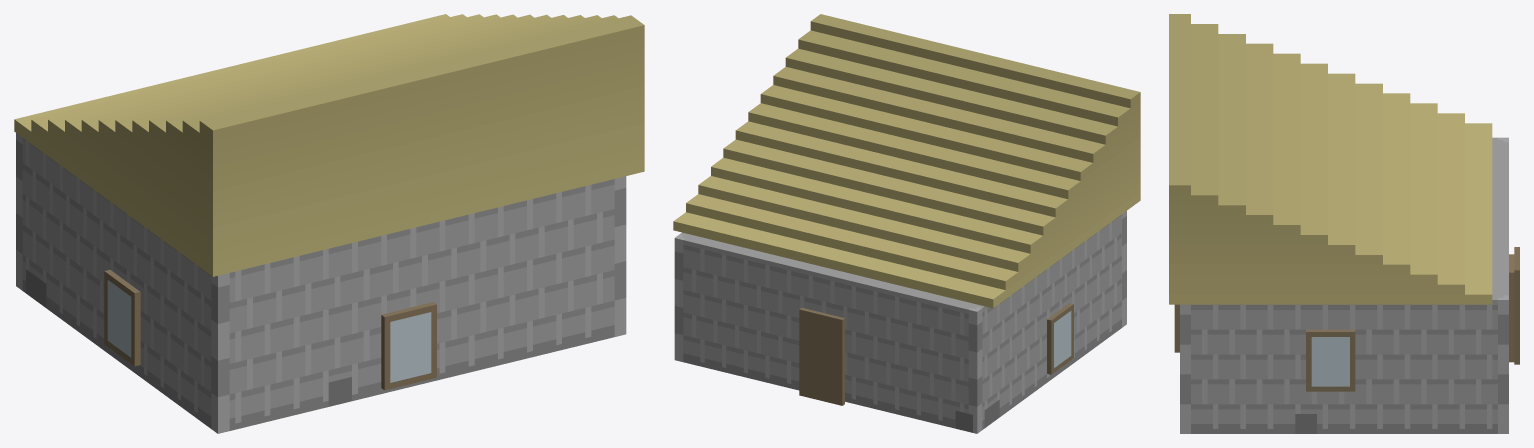
File: casa_humilde_03.glb
3 views of the same model, side by side, from view 1: azimuth 30°, elevation 25°; view 2: azimuth 150°, elevation 25°; view 3: azimuth 270°, elevation 25° (orthographic). The views are drawn at different scales.
Visible parts, largest first — view 1: casa_humilde_03; view 2: casa_humilde_03; view 3: casa_humilde_03.
Boxes of the visible parts, left/top/right/bottom form: casa_humilde_03: left=14, top=14, right=644, bottom=433; casa_humilde_03: left=673, top=14, right=1140, bottom=433; casa_humilde_03: left=1169, top=14, right=1519, bottom=433.
Bounding box in the file's own units: 7.4 × 5.1 × 6.4.
